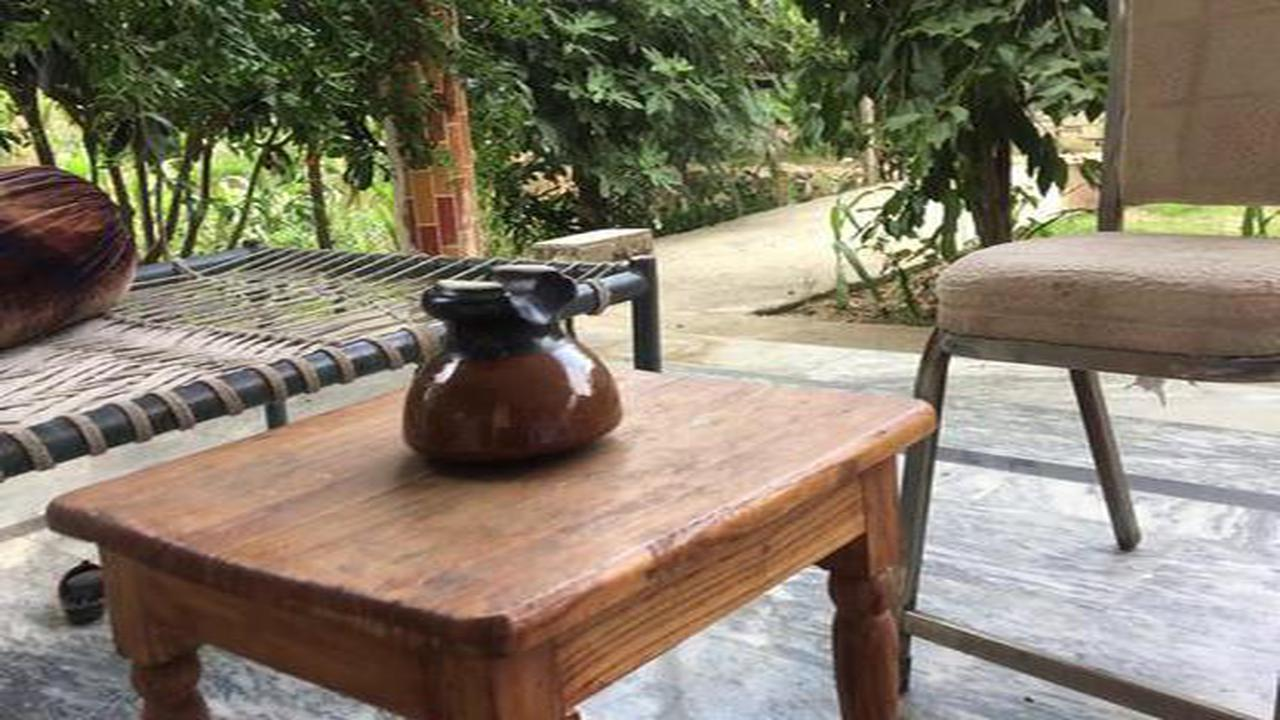insulator_pin: (385, 255, 637, 480)
